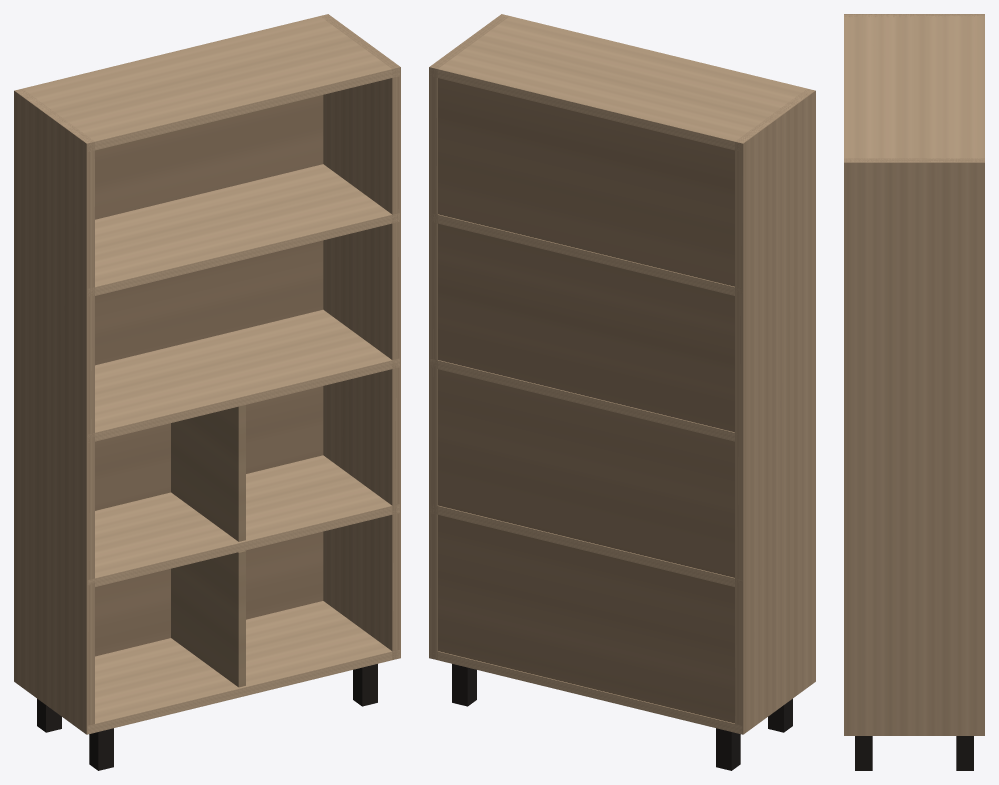
3 views of the same model, side by side, from view 1: azimuth 30°, elevation 25°; view 2: azimuth 150°, elevation 25°; view 3: azimuth 270°, elevation 25° (orthographic). The views are drawn at different scales.
Parts seen in each view (by area): view 1: Carcass; view 2: Carcass; view 3: Carcass.
Part boxes in pixels (bbox=[...]): Carcass: bbox=[14, 14, 400, 770]; Carcass: bbox=[429, 14, 815, 770]; Carcass: bbox=[844, 14, 984, 770].
Size of the model in its own units: 0.75 by 1.45 by 0.3.
1 material, 1 textured.
